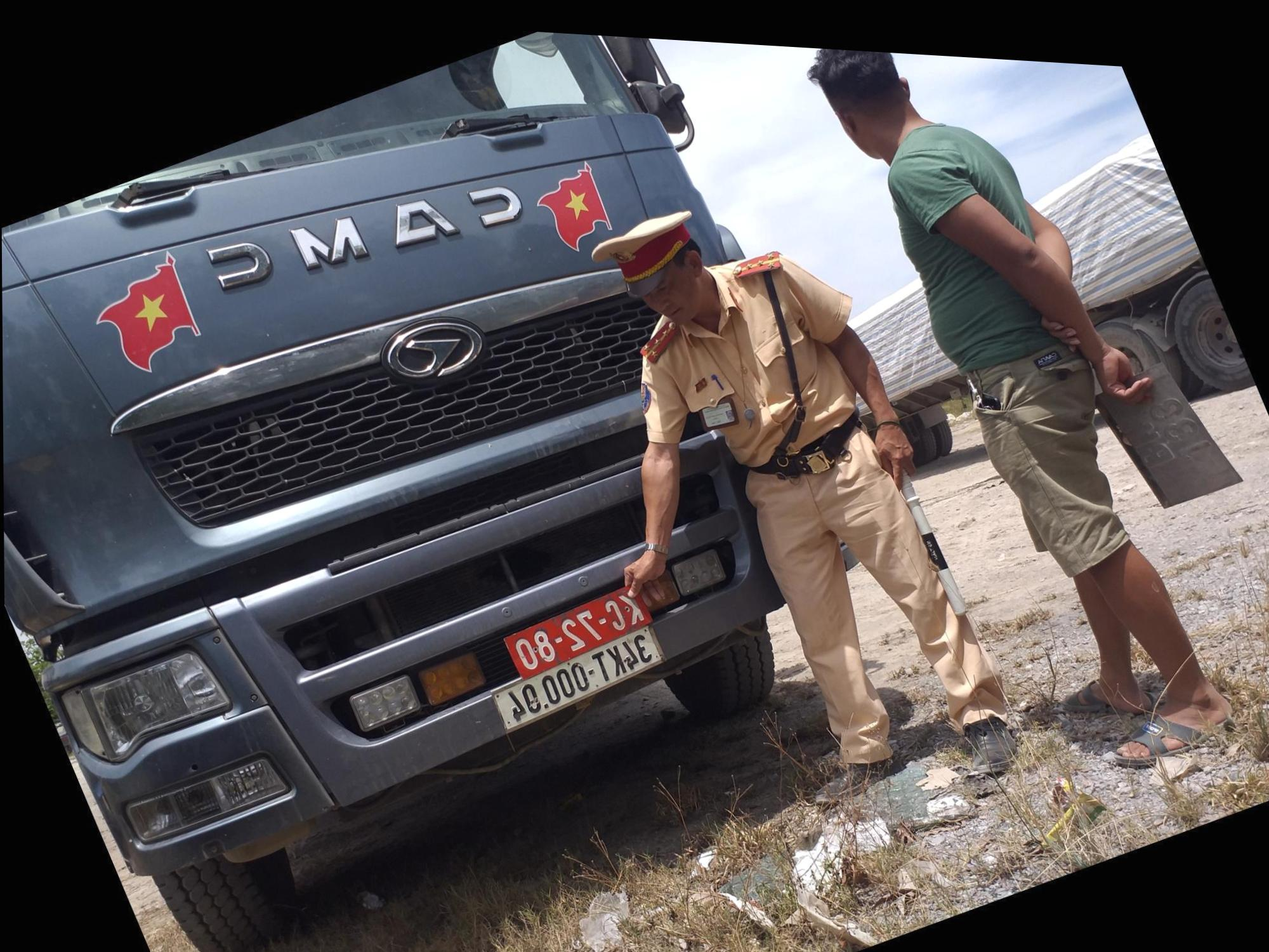License_Plate: (492, 619, 664, 751), (500, 574, 651, 676)
